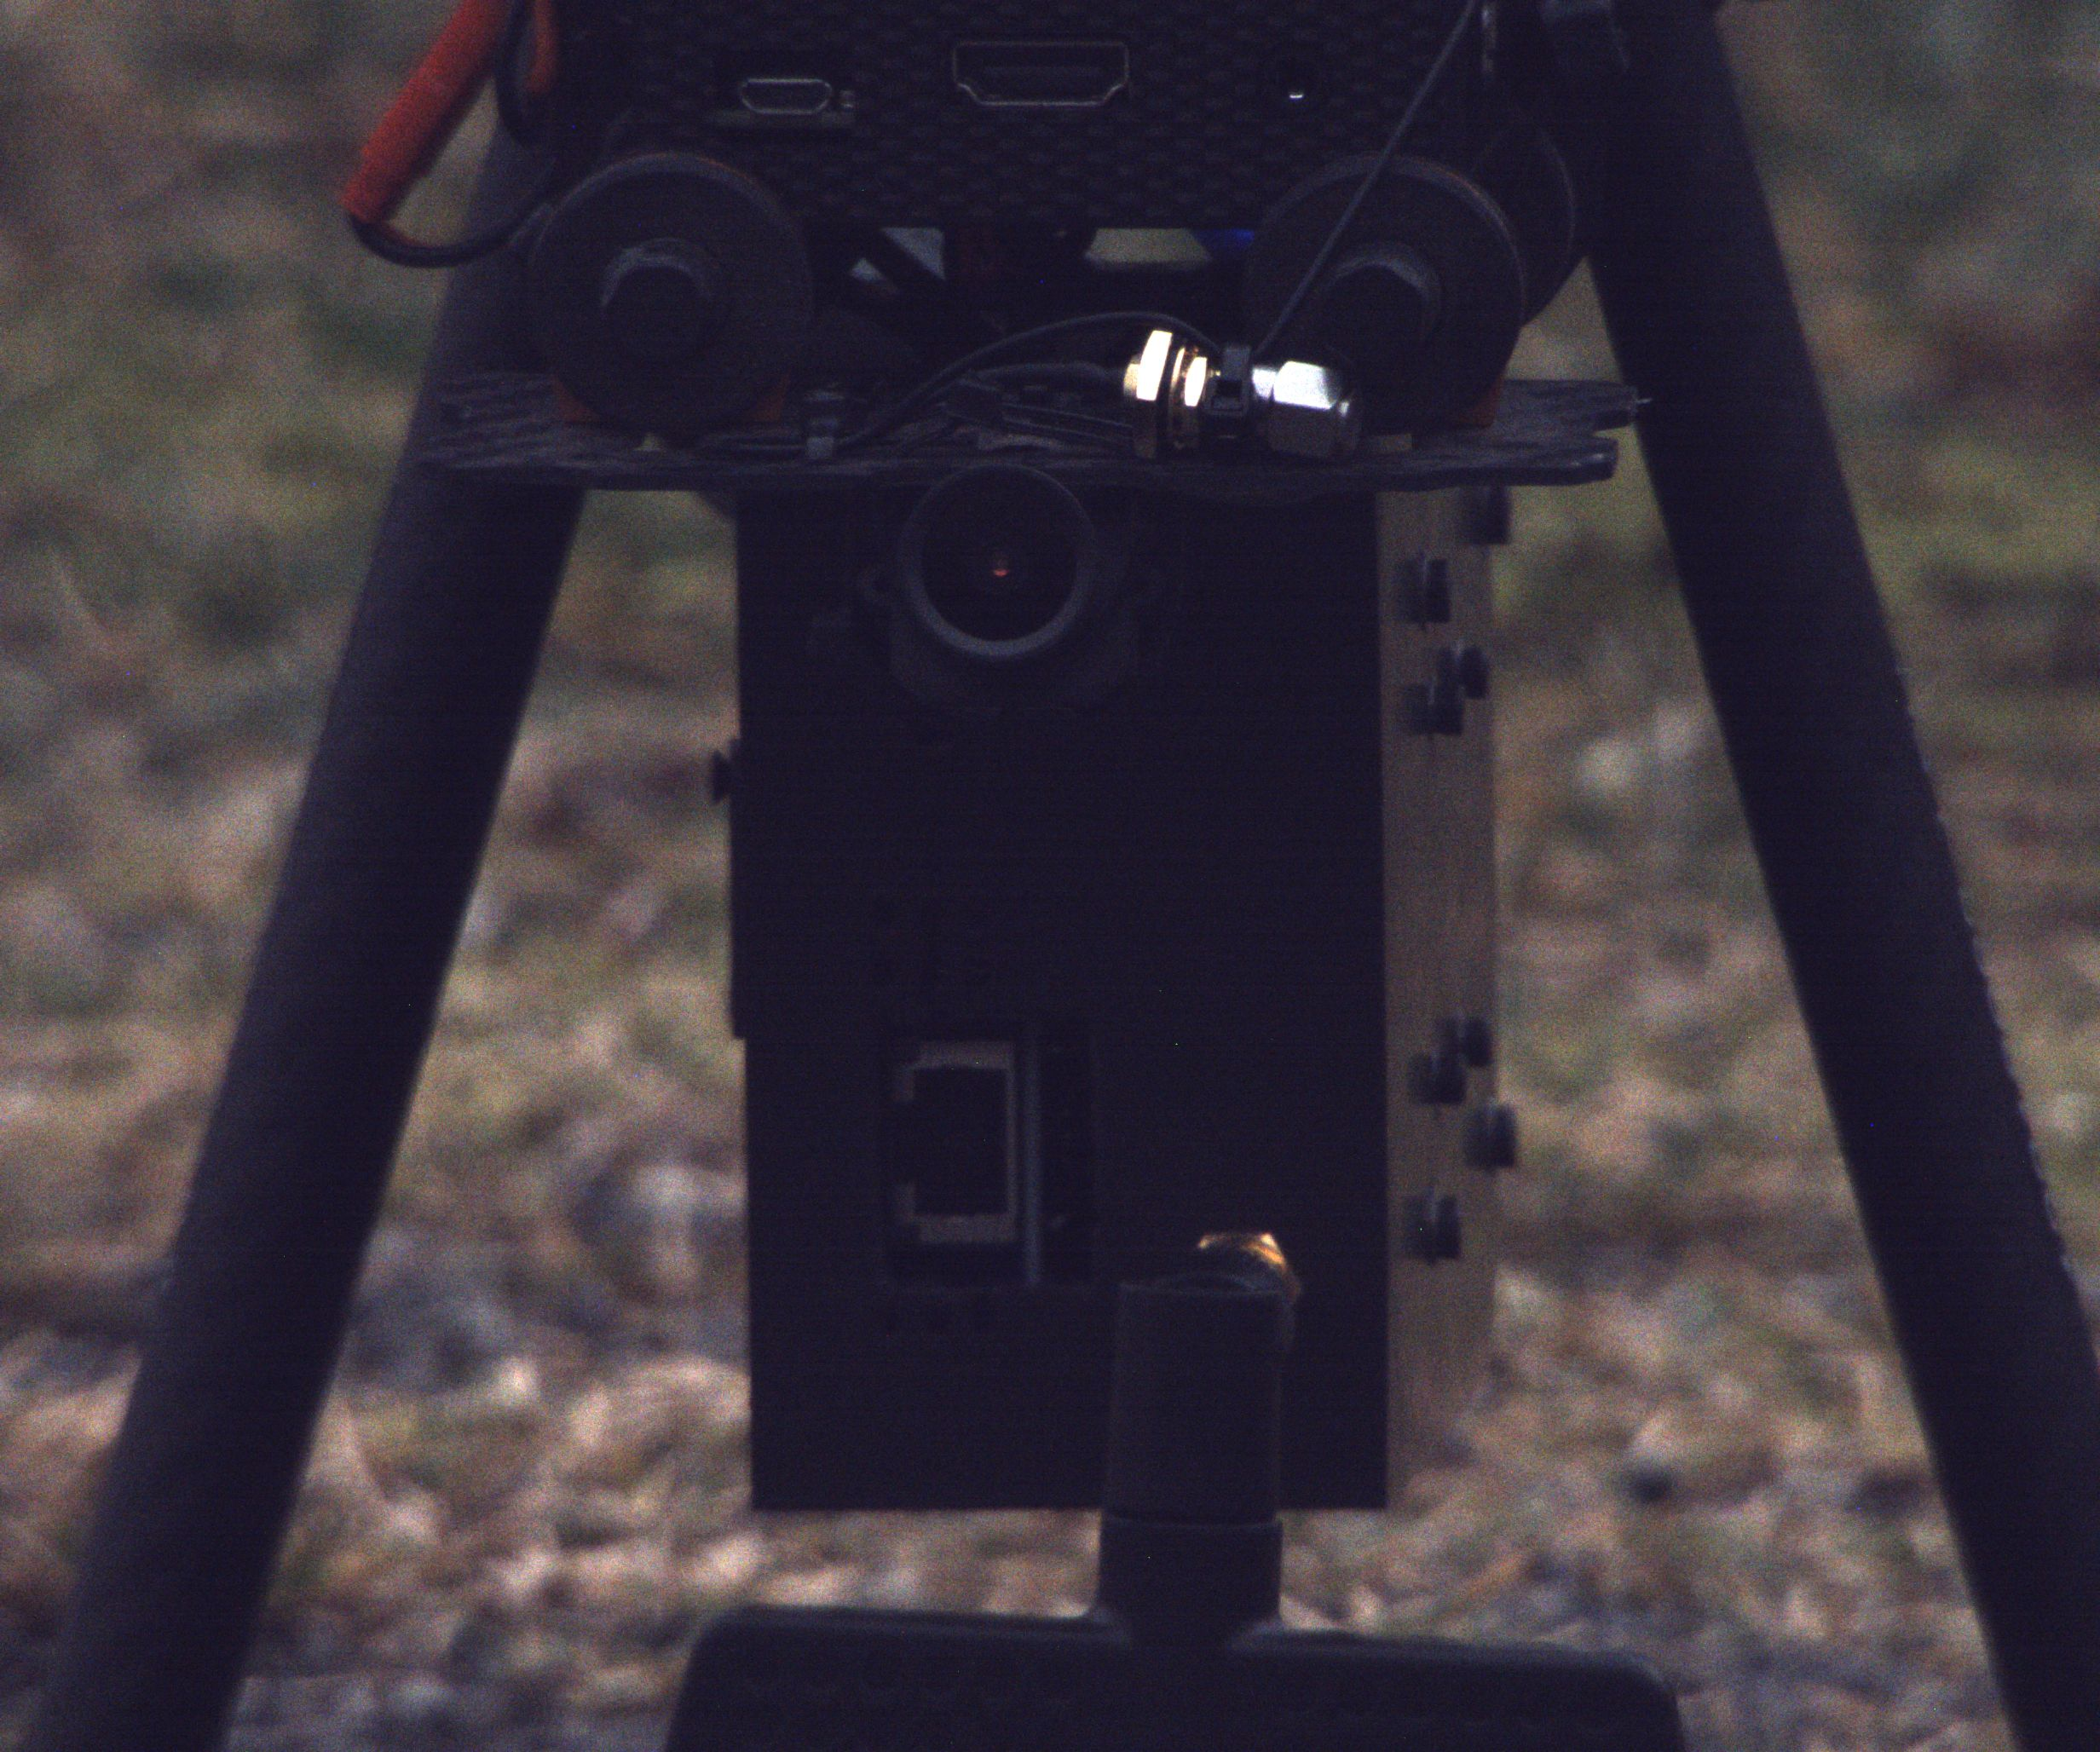Drohne: (147, 17, 2027, 1752)
